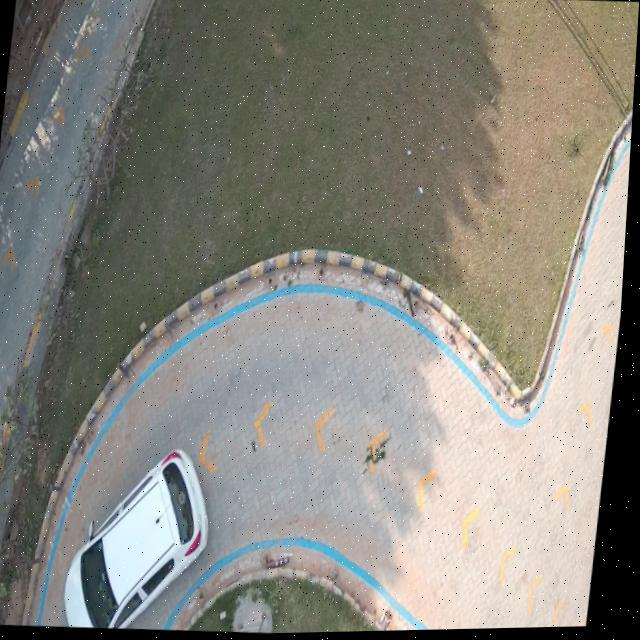car: (71, 453, 215, 627)
